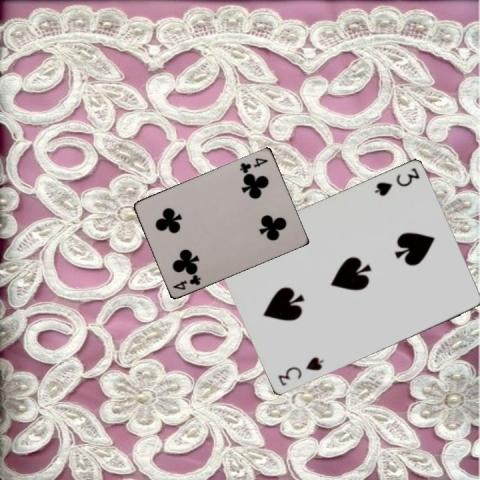3s: (274, 354, 324, 388), (371, 165, 421, 198)
4c: (170, 271, 202, 291), (237, 155, 269, 174)
